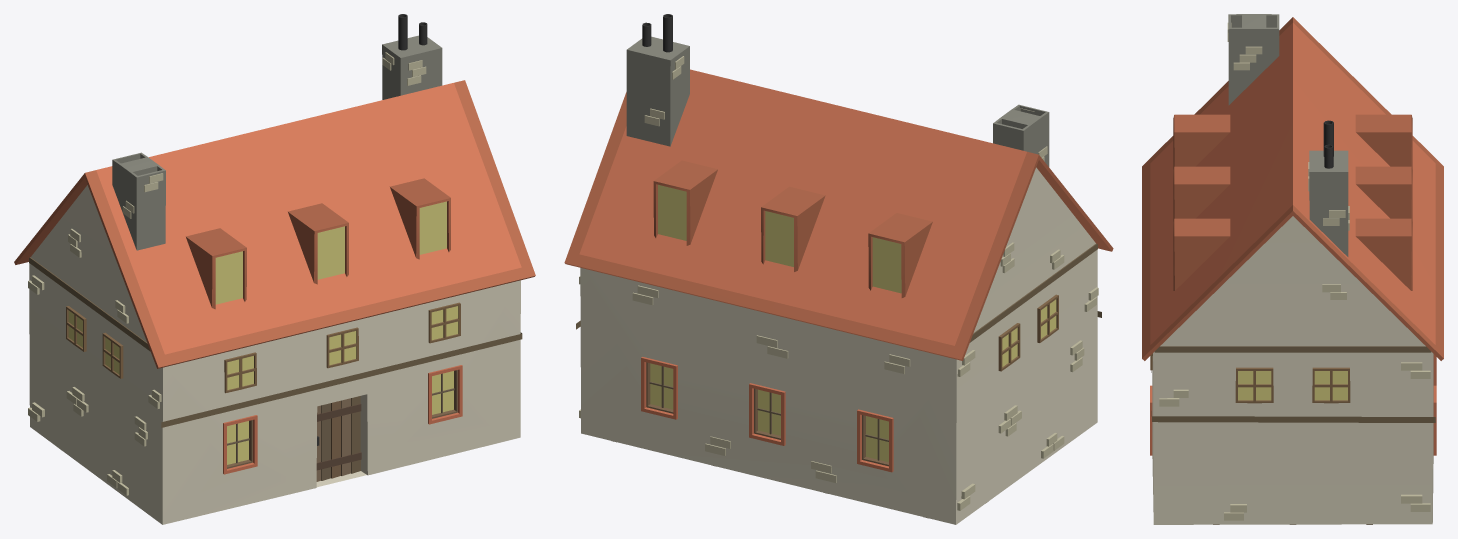
Rendered from House003.fbx.
3 renders of one model, left to right at view 1: azimuth 30°, elevation 25°; view 2: azimuth 150°, elevation 25°; view 3: azimuth 270°, elevation 25°, orthographic. The views are drawn at different scales.
Visible parts, largest first — view 1: House_9; view 2: House_9; view 3: House_9.
Part boxes in pixels (x1=…): House_9: x1=14, y1=14, x2=535, y2=524; House_9: x1=564, y1=14, x2=1113, y2=524; House_9: x1=1142, y1=14, x2=1443, y2=524.
Bounding box in the file's own units: 151 × 140 × 99.2.
